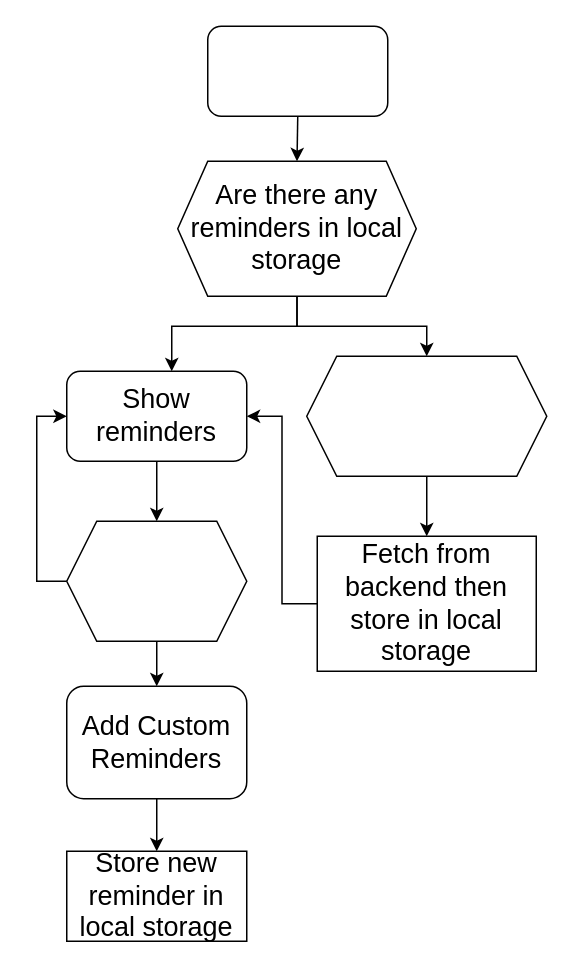
The diagram is 573 pixels wide and 971 high, and some of its shapes have lost their labels. The shapes that lost their labels are listed below. From the top down, each one's centre as x and y in pixels, then its label:
the point at 297,70: Main Page
the point at 426,415: Are there any custom reminders in the backend?
the point at 156,580: Add Reminder?
